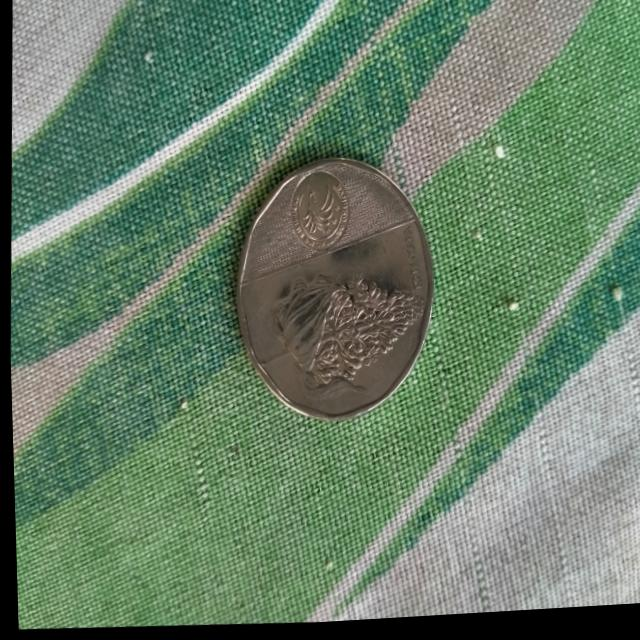10_New_Back: (240, 254, 437, 402)
